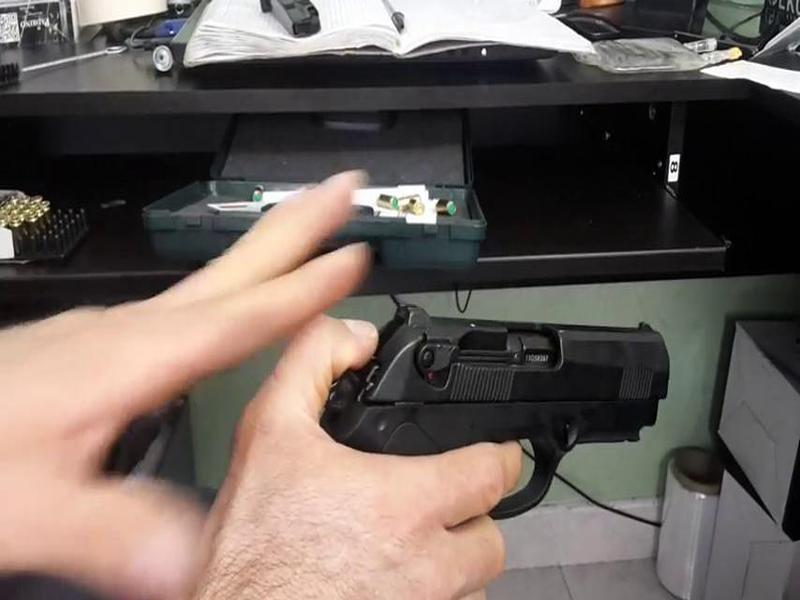Pistola: (323, 278, 701, 531)
